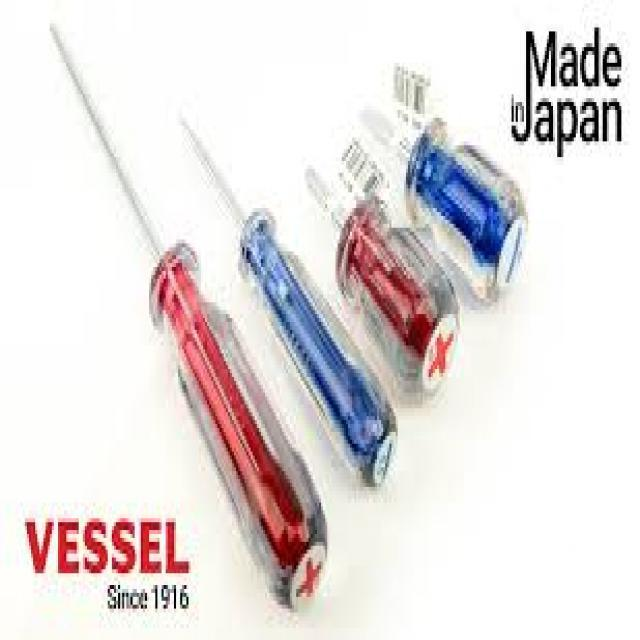screwdriver: (45, 3, 332, 620), (176, 110, 402, 491), (295, 155, 463, 414), (346, 90, 534, 302)
